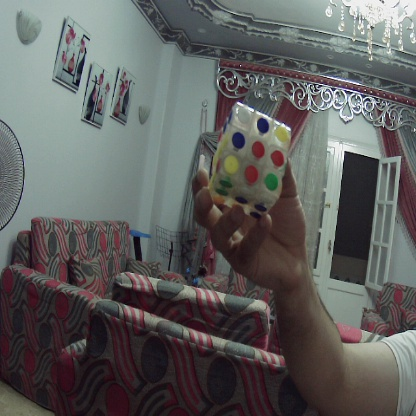Rubix Cube: (209, 99, 287, 216)
